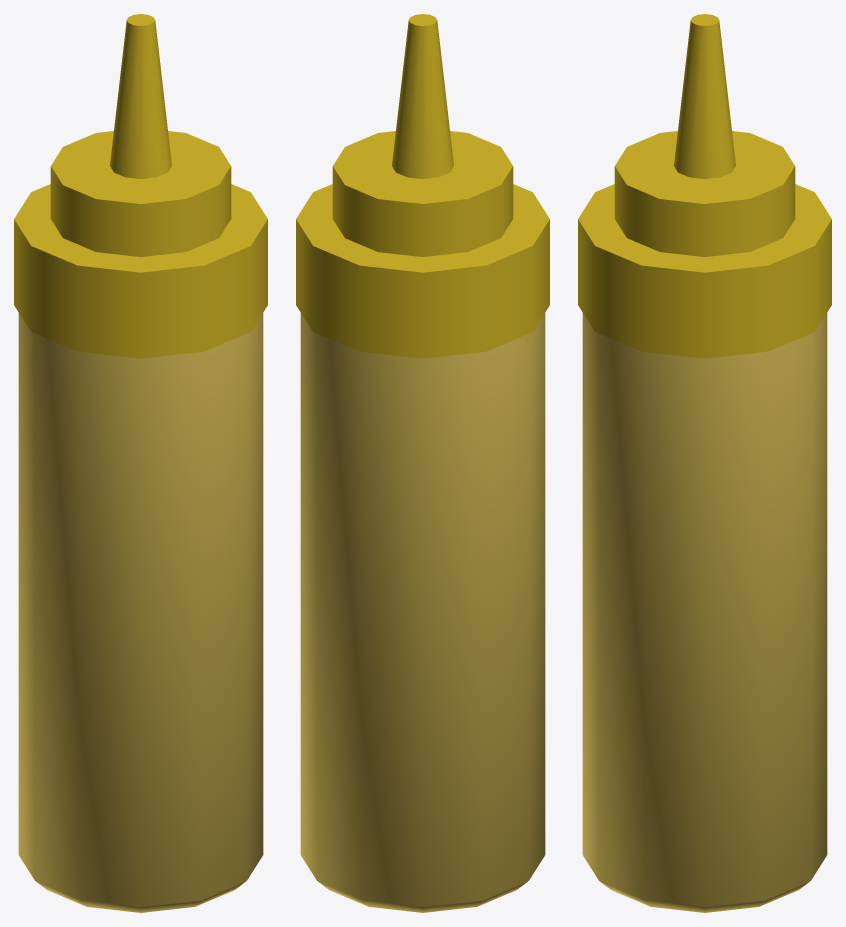
The model's file is mustard.fbx.
3 renders of one model, left to right at view 1: azimuth 30°, elevation 25°; view 2: azimuth 150°, elevation 25°; view 3: azimuth 270°, elevation 25°, orthographic.
Parts seen in each view (by area): view 1: mustard; view 2: mustard; view 3: mustard.
Boxes of the visible parts, left/top/right/bottom form: mustard: left=14, top=14, right=267, bottom=912; mustard: left=296, top=14, right=549, bottom=912; mustard: left=578, top=14, right=831, bottom=912.
Size of the model in its own units: 5.24 by 19.28 by 5.24.
Materials: 1 (1 with a texture image).
